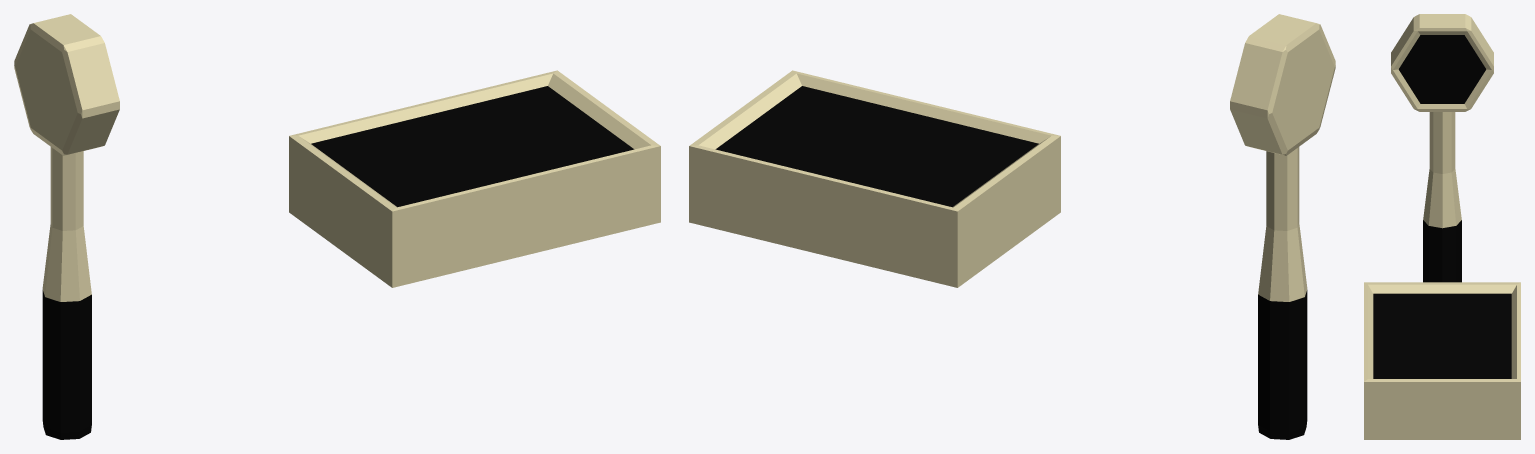
Rendered from WandAndMeter.fbx.
3 views of the same model, side by side, from view 1: azimuth 30°, elevation 25°; view 2: azimuth 150°, elevation 25°; view 3: azimuth 270°, elevation 25° (orthographic). The views are drawn at different scales.
Visible parts, largest first — view 1: Meter, Cylinder, Cylinder.001; view 2: Meter, Cylinder, Cylinder.001; view 3: Meter, Cylinder.001, Cylinder.
Part boxes in pixels (box(x1,y1,x2,y2)): Meter: box(289, 70, 660, 287); Cylinder: box(42, 147, 91, 439); Cylinder.001: box(14, 14, 119, 155); Meter: box(689, 70, 1060, 287); Cylinder: box(1258, 147, 1307, 439); Cylinder.001: box(1230, 14, 1335, 155); Meter: box(1364, 282, 1520, 439); Cylinder.001: box(1391, 14, 1493, 111); Cylinder: box(1423, 112, 1461, 282).
Size of the model in its own units: 630 by 427 by 200.
